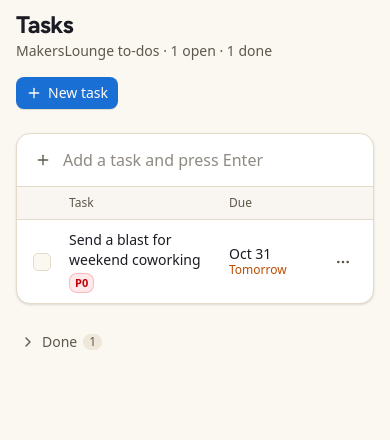
Test case: AdminTasksPage › lists open tasks and folds done ones into a Done section
Check: the text "Send a blast for weekend coworking" is shown, box [69,230,217,270]
Check: the text titled "Urgent" is shown, box [69,273,94,293]
Click the button "Done 1". click: click(61, 342)
box: [16,328,106,356]
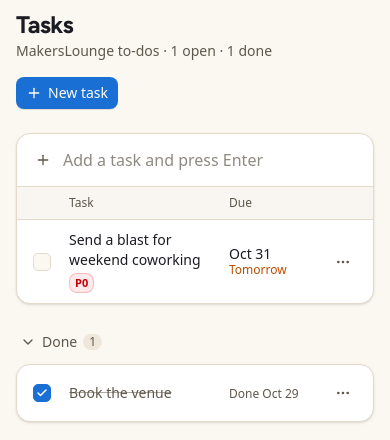
Check: the text "Book the venue" is shown, box [69,383,172,402]
